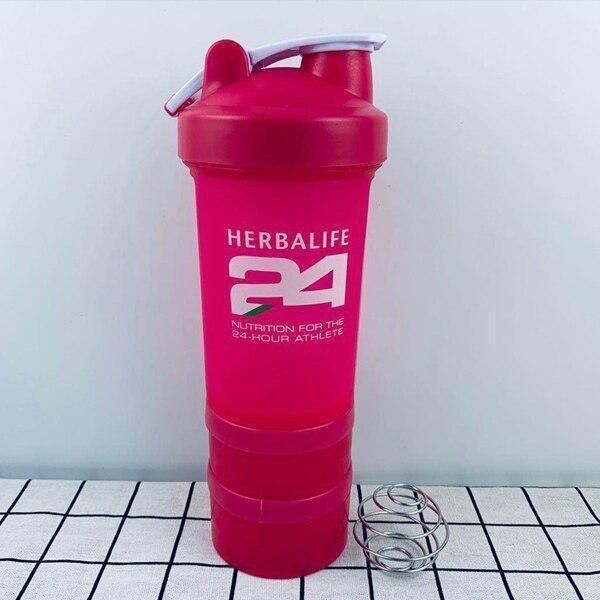gym bottle: (167, 33, 391, 583)
